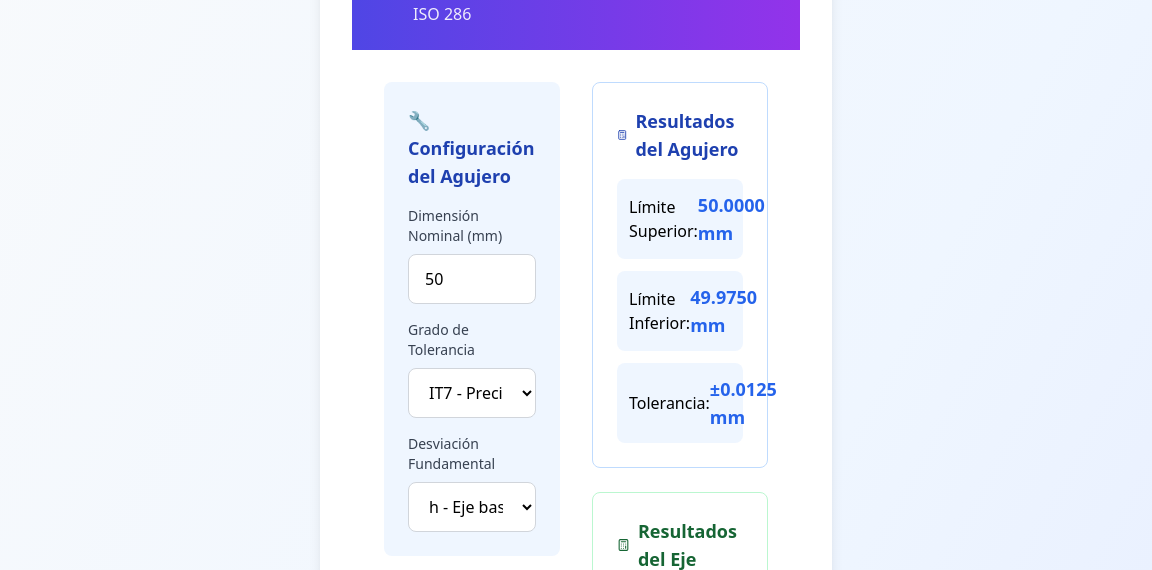
Scenario: ToleranciaCalculator (integración y casos avanzados) › restablece los valores al hacer clic en reiniciar
Replace the text in the number field named "Dimensión nominal del agujero" with "80" at (472, 279), box [408, 254, 536, 304]
(page scrolled)
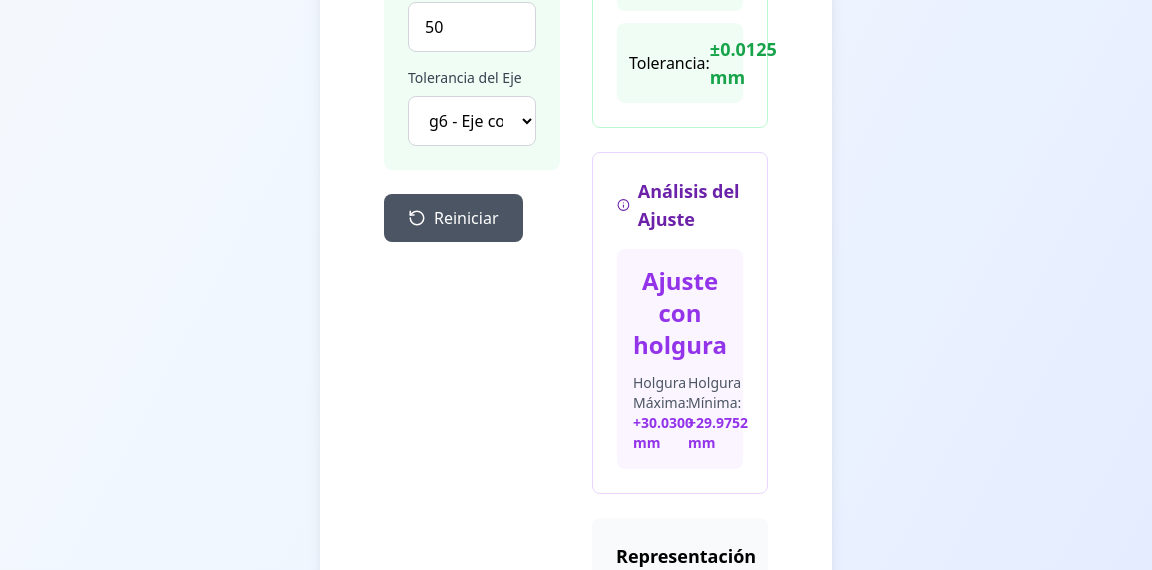
Click the button with aria-label "reiniciar calculadora" at (453, 218), box [384, 194, 522, 242]
(page scrolled)
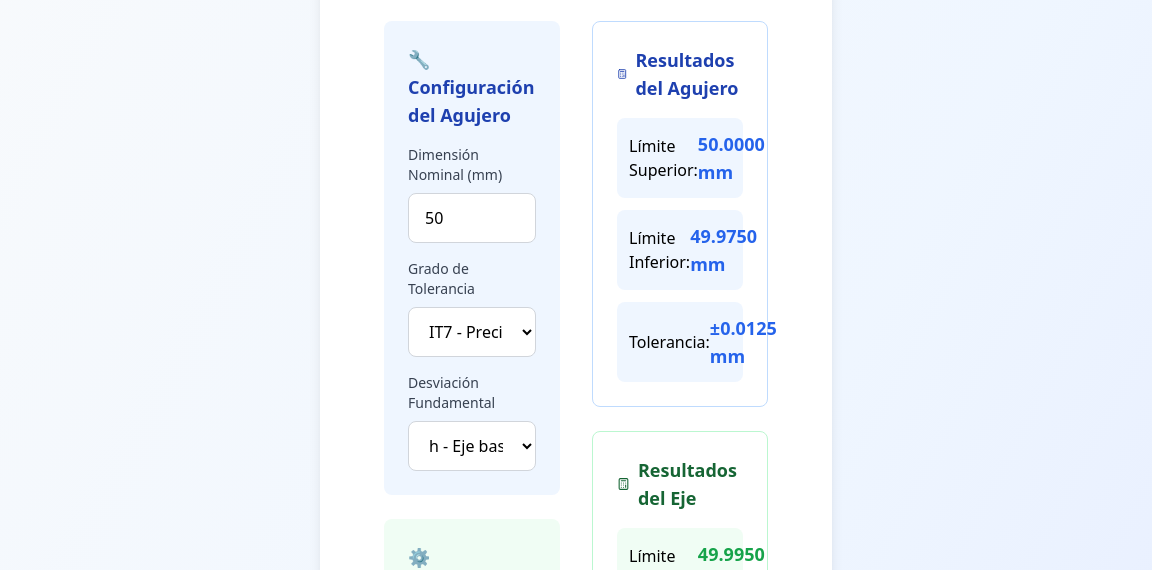
Check: the number field named "Dimensión nominal del agujero" holds "50", box [408, 193, 536, 243]
